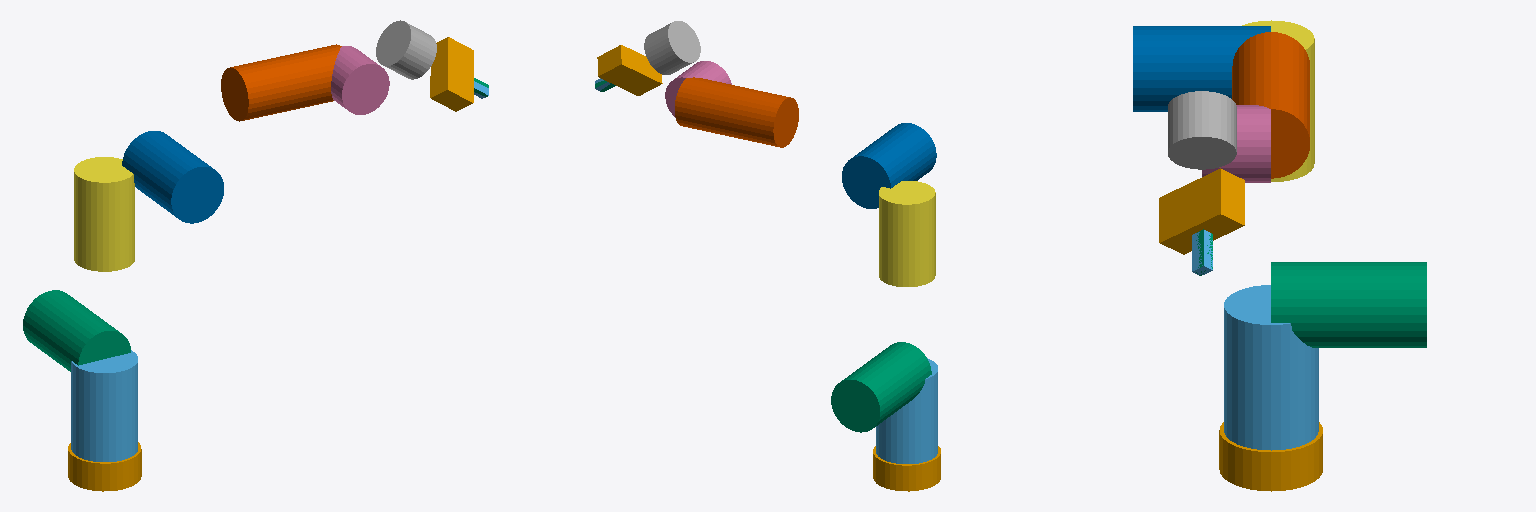
The robot description file, URDF, robot "fr3_primitives":
<?xml version="1.0"?>
<!--
  Primitives-only Franka FR3-like fixture used by live-preview and editor
  tests. Kinematics roughly match the Panda/FR3 arm; geometry is cylinders
  and boxes so the renderer needs no mesh assets to display the robot.
-->
<robot name="fr3_primitives">

  <link name="fr3_link0">
    <visual>
      <geometry><cylinder radius="0.06" length="0.05"/></geometry>
      <origin xyz="0 0 0.025"/>
    </visual>
    <inertial>
      <mass value="2.0"/>
      <inertia ixx="0.01" ixy="0" ixz="0" iyy="0.01" iyz="0" izz="0.01"/>
    </inertial>
  </link>

  <link name="fr3_link1">
    <visual>
      <geometry><cylinder radius="0.055" length="0.16"/></geometry>
      <origin xyz="0 0 0.08"/>
    </visual>
    <inertial>
      <mass value="2.3"/>
      <inertia ixx="0.01" ixy="0" ixz="0" iyy="0.01" iyz="0" izz="0.005"/>
    </inertial>
  </link>

  <link name="fr3_link2">
    <visual>
      <geometry><cylinder radius="0.05" length="0.18"/></geometry>
      <origin xyz="0 0 0.09"/>
    </visual>
    <inertial>
      <mass value="2.3"/>
      <inertia ixx="0.01" ixy="0" ixz="0" iyy="0.01" iyz="0" izz="0.005"/>
    </inertial>
  </link>

  <link name="fr3_link3">
    <visual>
      <geometry><cylinder radius="0.05" length="0.16"/></geometry>
      <origin xyz="0 0 0.08"/>
    </visual>
    <inertial>
      <mass value="2.0"/>
      <inertia ixx="0.01" ixy="0" ixz="0" iyy="0.01" iyz="0" izz="0.005"/>
    </inertial>
  </link>

  <link name="fr3_link4">
    <visual>
      <geometry><cylinder radius="0.05" length="0.16"/></geometry>
      <origin xyz="0 0 0.08"/>
    </visual>
    <inertial>
      <mass value="2.0"/>
      <inertia ixx="0.008" ixy="0" ixz="0" iyy="0.008" iyz="0" izz="0.004"/>
    </inertial>
  </link>

  <link name="fr3_link5">
    <visual>
      <geometry><cylinder radius="0.045" length="0.20"/></geometry>
      <origin xyz="0 0 0.10"/>
    </visual>
    <inertial>
      <mass value="1.5"/>
      <inertia ixx="0.006" ixy="0" ixz="0" iyy="0.006" iyz="0" izz="0.003"/>
    </inertial>
  </link>

  <link name="fr3_link6">
    <visual>
      <geometry><cylinder radius="0.045" length="0.08"/></geometry>
      <origin xyz="0 0 0.04"/>
    </visual>
    <inertial>
      <mass value="1.0"/>
      <inertia ixx="0.003" ixy="0" ixz="0" iyy="0.003" iyz="0" izz="0.002"/>
    </inertial>
  </link>

  <link name="fr3_link7">
    <visual>
      <geometry><cylinder radius="0.04" length="0.06"/></geometry>
      <origin xyz="0 0 0.03"/>
    </visual>
    <inertial>
      <mass value="0.5"/>
      <inertia ixx="0.001" ixy="0" ixz="0" iyy="0.001" iyz="0" izz="0.001"/>
    </inertial>
  </link>

  <link name="fr3_hand">
    <visual>
      <geometry><box size="0.10 0.04 0.06"/></geometry>
      <origin xyz="0 0 0.03"/>
    </visual>
    <inertial>
      <mass value="0.7"/>
      <inertia ixx="0.001" ixy="0" ixz="0" iyy="0.0025" iyz="0" izz="0.0017"/>
    </inertial>
  </link>

  <link name="fr3_leftfinger">
    <visual>
      <geometry><box size="0.02 0.015 0.05"/></geometry>
      <origin xyz="0 0 0.025"/>
    </visual>
    <inertial>
      <mass value="0.015"/>
      <inertia ixx="2.4e-6" ixy="0" ixz="0" iyy="2.4e-6" iyz="0" izz="7.5e-7"/>
    </inertial>
  </link>

  <link name="fr3_rightfinger">
    <visual>
      <geometry><box size="0.02 0.015 0.05"/></geometry>
      <origin xyz="0 0 0.025"/>
    </visual>
    <inertial>
      <mass value="0.015"/>
      <inertia ixx="2.4e-6" ixy="0" ixz="0" iyy="2.4e-6" iyz="0" izz="7.5e-7"/>
    </inertial>
  </link>

  <joint name="fr3_joint1" type="revolute">
    <parent link="fr3_link0"/>
    <child link="fr3_link1"/>
    <origin xyz="0 0 0.05" rpy="0 0 0"/>
    <axis xyz="0 0 1"/>
    <limit lower="-2.7437" upper="2.7437" effort="87" velocity="2.62"/>
  </joint>

  <joint name="fr3_joint2" type="revolute">
    <parent link="fr3_link1"/>
    <child link="fr3_link2"/>
    <origin xyz="0 0 0.16" rpy="-1.5708 0 0"/>
    <axis xyz="0 0 1"/>
    <limit lower="-1.7837" upper="1.7837" effort="87" velocity="2.62"/>
  </joint>

  <joint name="fr3_joint3" type="revolute">
    <parent link="fr3_link2"/>
    <child link="fr3_link3"/>
    <origin xyz="0 -0.18 0" rpy="1.5708 0 0"/>
    <axis xyz="0 0 1"/>
    <limit lower="-2.9007" upper="2.9007" effort="87" velocity="2.62"/>
  </joint>

  <joint name="fr3_joint4" type="revolute">
    <parent link="fr3_link3"/>
    <child link="fr3_link4"/>
    <origin xyz="0.0825 0 0.16" rpy="1.5708 0 0"/>
    <axis xyz="0 0 1"/>
    <limit lower="-3.0421" upper="-0.1518" effort="87" velocity="2.62"/>
  </joint>

  <joint name="fr3_joint5" type="revolute">
    <parent link="fr3_link4"/>
    <child link="fr3_link5"/>
    <origin xyz="-0.0825 0.16 0" rpy="-1.5708 0 0"/>
    <axis xyz="0 0 1"/>
    <limit lower="-2.8065" upper="2.8065" effort="12" velocity="5.26"/>
  </joint>

  <joint name="fr3_joint6" type="revolute">
    <parent link="fr3_link5"/>
    <child link="fr3_link6"/>
    <origin xyz="0 0 0.20" rpy="1.5708 0 0"/>
    <axis xyz="0 0 1"/>
    <limit lower="0.5445" upper="4.5169" effort="12" velocity="4.18"/>
  </joint>

  <joint name="fr3_joint7" type="revolute">
    <parent link="fr3_link6"/>
    <child link="fr3_link7"/>
    <origin xyz="0.088 0 0.08" rpy="1.5708 0 0"/>
    <axis xyz="0 0 1"/>
    <limit lower="-3.0159" upper="3.0159" effort="12" velocity="5.26"/>
  </joint>

  <joint name="fr3_hand_joint" type="fixed">
    <parent link="fr3_link7"/>
    <child link="fr3_hand"/>
    <origin xyz="0 0 0.107" rpy="0 0 -0.7854"/>
  </joint>

  <joint name="fr3_finger_joint1" type="prismatic">
    <parent link="fr3_hand"/>
    <child link="fr3_leftfinger"/>
    <origin xyz="0 0 0.0584"/>
    <axis xyz="0 1 0"/>
    <limit lower="0.0" upper="0.04" effort="100" velocity="0.2"/>
  </joint>

  <joint name="fr3_finger_joint2" type="prismatic">
    <parent link="fr3_hand"/>
    <child link="fr3_rightfinger"/>
    <origin xyz="0 0 0.0584" rpy="0 0 3.1416"/>
    <axis xyz="0 1 0"/>
    <mimic joint="fr3_finger_joint1" multiplier="1" offset="0"/>
    <limit lower="0.0" upper="0.04" effort="100" velocity="0.2"/>
  </joint>

</robot>

--- Render facts (derived) ---
The picture shows the robot from 3 angles, left to right: view 1: azimuth 30°, elevation 25°; view 2: azimuth 150°, elevation 25°; view 3: azimuth 270°, elevation 25°; orthographic projection.
Model fr3_primitives with 11 links and 10 joints (7 revolute, 2 prismatic, 1 fixed), rooted at fr3_link0, posed all joints at 0 but 2 set to mid-range because 0 is outside their limits (fr3_joint4 = -1.6, fr3_joint6 = 2.53).
Links seen in each view (by area): view 1: fr3_link1, fr3_link3, fr3_link5, fr3_link4, fr3_link2, fr3_link6, fr3_hand, fr3_link7, fr3_link0; view 2: fr3_link5, fr3_link3, fr3_link2, fr3_link4, fr3_link1, fr3_link7, fr3_hand, fr3_link0, fr3_link6; view 3: fr3_link2, fr3_link1, fr3_link4, fr3_link5, fr3_hand, fr3_link7, fr3_link0, fr3_link6, fr3_link3, fr3_leftfinger.
Link boxes in pixels (bbox=[...]): fr3_link1: bbox=[71, 350, 137, 461]; fr3_link3: bbox=[74, 157, 134, 271]; fr3_link5: bbox=[221, 44, 341, 121]; fr3_link4: bbox=[122, 131, 223, 223]; fr3_link2: bbox=[23, 290, 130, 371]; fr3_link6: bbox=[331, 46, 389, 114]; fr3_hand: bbox=[430, 37, 473, 111]; fr3_link7: bbox=[376, 20, 436, 79]; fr3_link0: bbox=[68, 442, 141, 491]; fr3_link5: bbox=[675, 77, 798, 147]; fr3_link3: bbox=[879, 181, 935, 286]; fr3_link2: bbox=[831, 342, 931, 432]; fr3_link4: bbox=[842, 123, 936, 208]; fr3_link1: bbox=[876, 358, 937, 463]; fr3_link7: bbox=[644, 21, 700, 74]; fr3_hand: bbox=[597, 45, 662, 95]; fr3_link0: bbox=[873, 446, 940, 491]; fr3_link6: bbox=[665, 61, 731, 117]; fr3_link2: bbox=[1271, 262, 1426, 347]; fr3_link1: bbox=[1224, 285, 1318, 450]; fr3_link4: bbox=[1133, 26, 1270, 111]; fr3_link5: bbox=[1232, 32, 1309, 178]; fr3_hand: bbox=[1159, 168, 1244, 254]; fr3_link7: bbox=[1168, 91, 1236, 169]; fr3_link0: bbox=[1219, 422, 1322, 491]; fr3_link6: bbox=[1202, 105, 1270, 182]; fr3_link3: bbox=[1242, 20, 1314, 181]; fr3_leftfinger: bbox=[1192, 230, 1212, 274].
Bounding box of the posed robot: 0.7374 × 0.34 × 0.726 m (x, y, z).
Geometry: primitives only (box / cylinder / sphere), no mesh files.
